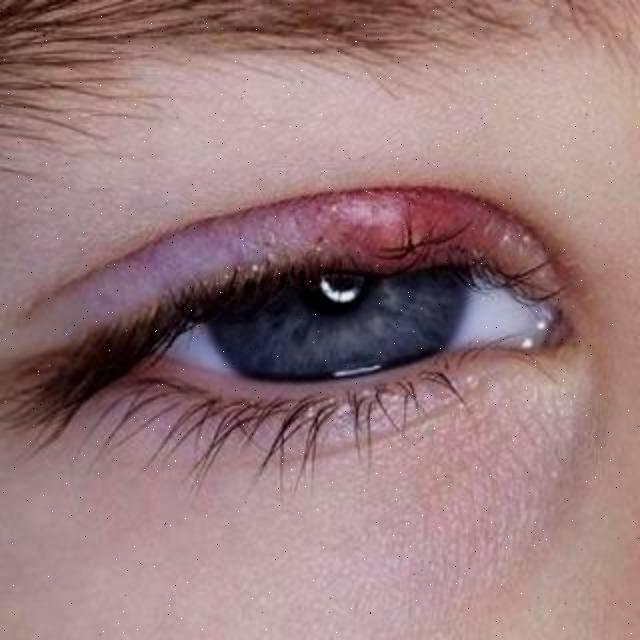Stye: (270, 153, 508, 295)
